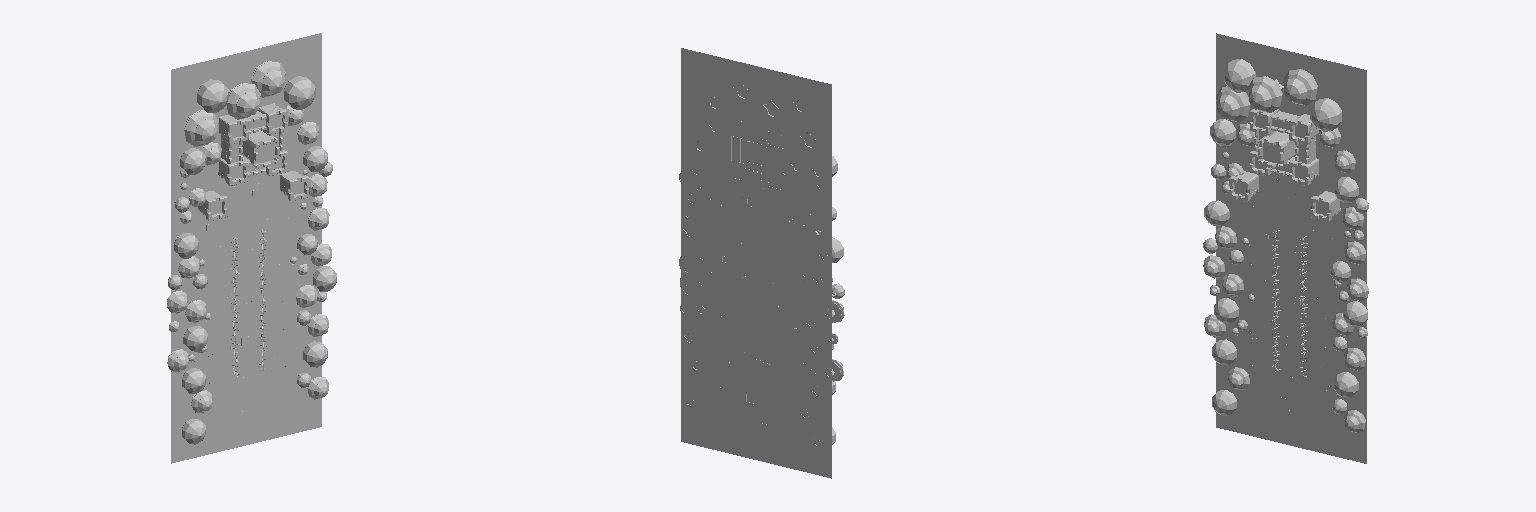
The model's file is map 1.obj.
3 views of the same model, side by side, from view 1: azimuth 30°, elevation 25°; view 2: azimuth 150°, elevation 25°; view 3: azimuth 330°, elevation 25° (orthographic).
Visible parts, largest first — view 1: ground, castel, Sphere026, Sphere016, Sphere015, Sphere012, Sphere013, Cobblestone, tower_1, tower_2, Sphere014; view 2: ground; view 3: ground, castel, Sphere026, Sphere015, Sphere016, Sphere012, Sphere013, Cobblestone, tower_2, tower_1, Sphere014.
Part boxes in pixels (x1,y1,x2,y2): ground: (171, 33, 321, 463); castel: (218, 103, 287, 185); Sphere026: (226, 83, 260, 119); Sphere016: (184, 110, 218, 146); Sphere015: (251, 61, 285, 97); Sphere012: (284, 76, 315, 109); Sphere013: (197, 79, 228, 112); Cobblestone: (206, 183, 274, 417); tower_1: (280, 171, 308, 200); tower_2: (198, 191, 227, 220); Sphere014: (180, 148, 205, 174); ground: (681, 48, 831, 478); ground: (1216, 33, 1366, 463); castel: (1250, 109, 1318, 185); Sphere026: (1248, 76, 1283, 112); Sphere015: (1283, 69, 1317, 105); Sphere016: (1216, 86, 1250, 121); Sphere012: (1310, 98, 1341, 131); Sphere013: (1223, 59, 1255, 92); Cobblestone: (1251, 189, 1319, 415); tower_2: (1229, 171, 1258, 201); tower_1: (1311, 191, 1340, 221); Sphere014: (1210, 119, 1235, 145).
Bounding box in the file's own units: 17.6 × 40 × 4.14.